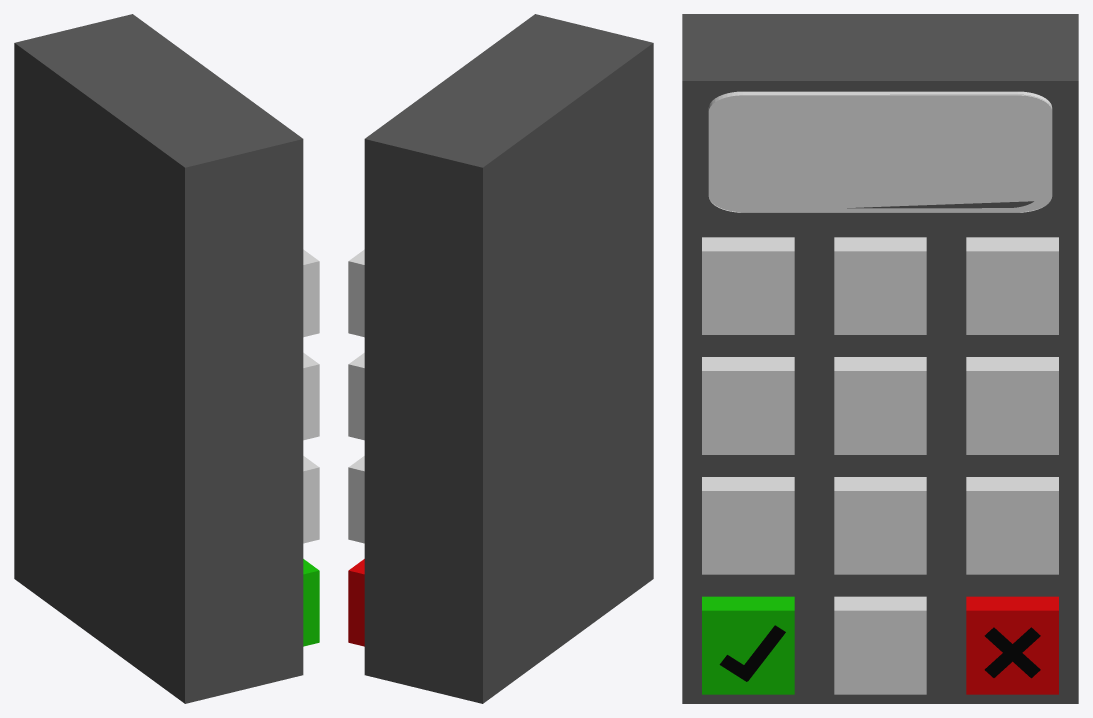
File: digicode.fbx
3 views of the same model, side by side, from view 1: azimuth 30°, elevation 25°; view 2: azimuth 150°, elevation 25°; view 3: azimuth 270°, elevation 25° (orthographic). The views are drawn at different scales.
Visible parts, largest first — view 1: Fond, Cube.004, Cube.001, Cube.007, Cube.oui; view 2: Fond, Cube.006, Cube.003, Cube.009, Cube.non; view 3: Fond, contourinf, contoursupp, Cube.011, Cube.001, Cube.002, Cube.003, Cube.004, Cube.005, Cube.006, Cube.007, Cube.008 (+7 smaller).
Part boxes in pixels (x1,y1,x2,y2): Fond: (14, 14, 303, 703); Cube.004: (303, 352, 319, 440); Cube.001: (303, 249, 319, 337); Cube.007: (303, 456, 319, 543); Cube.oui: (303, 559, 319, 646); Fond: (364, 14, 653, 703); Cube.006: (348, 352, 364, 440); Cube.003: (348, 249, 364, 337); Cube.009: (348, 456, 364, 543); Cube.non: (348, 559, 364, 646); Fond: (682, 14, 1078, 703); contourinf: (712, 95, 1052, 212); contoursupp: (708, 94, 1048, 212); Cube.011: (834, 596, 926, 694); Cube.001: (702, 237, 794, 334); Cube.002: (834, 237, 926, 334); Cube.003: (966, 237, 1058, 334); Cube.004: (702, 357, 794, 454); Cube.005: (834, 357, 926, 454); Cube.006: (966, 357, 1058, 454); Cube.007: (702, 477, 794, 574); Cube.008: (834, 477, 926, 574).
Size of the model in its own units: 73 by 260 by 150.
